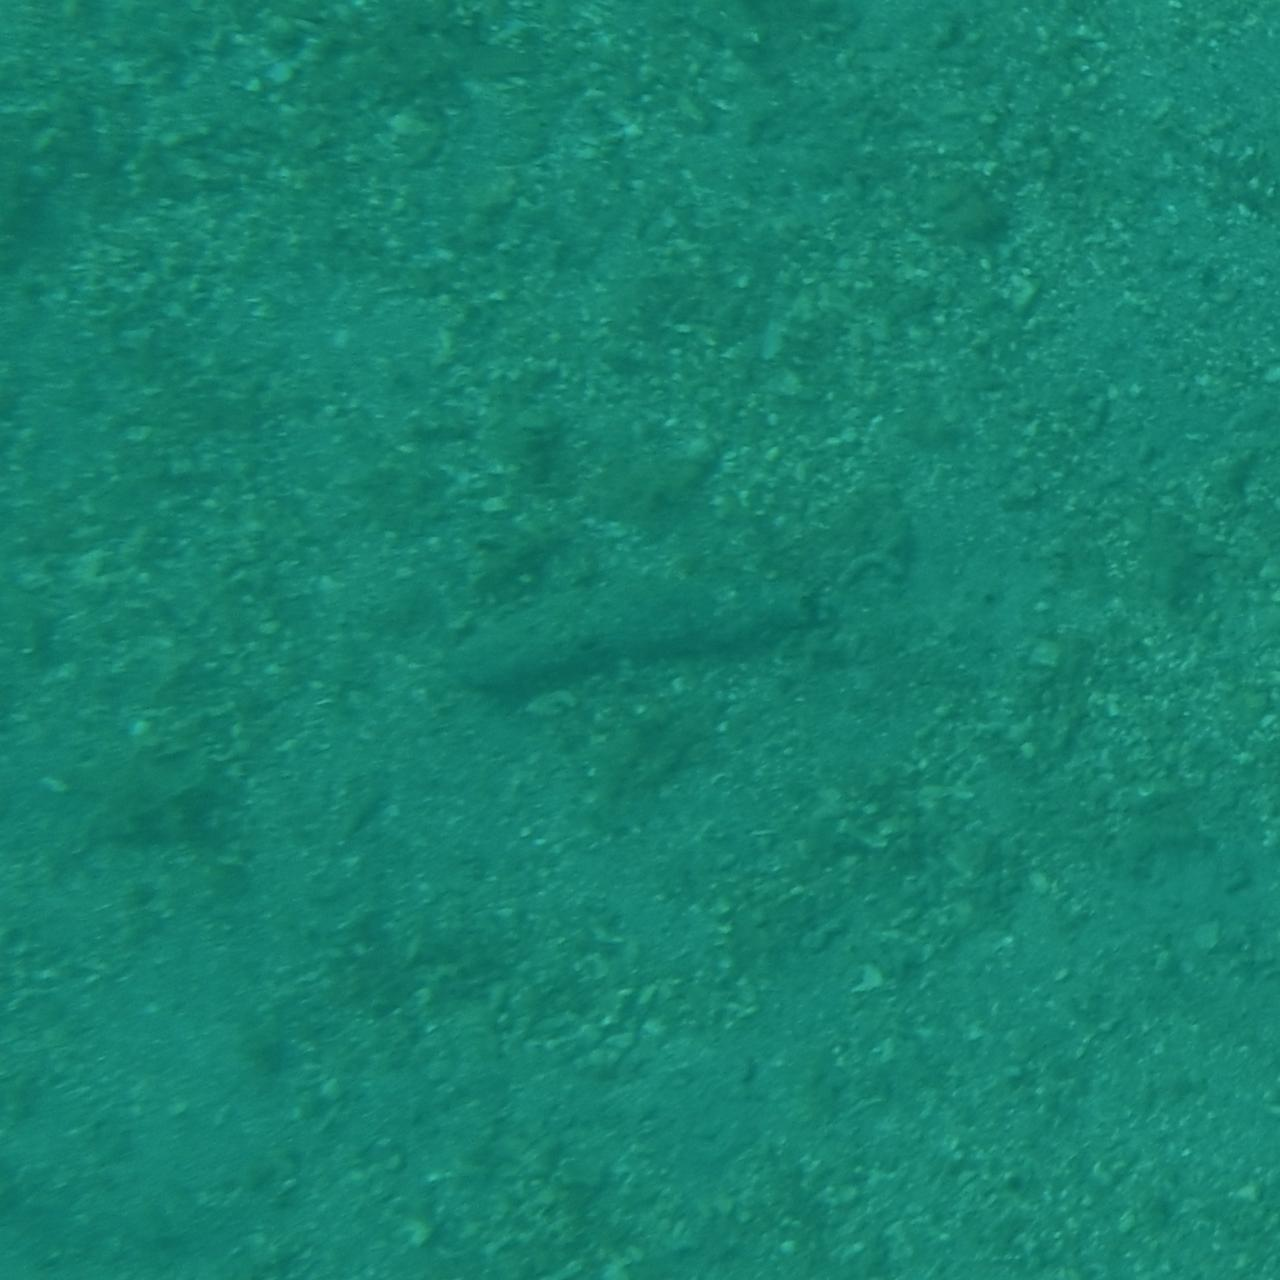Holothuria tubulosa: (446, 570, 834, 710)
